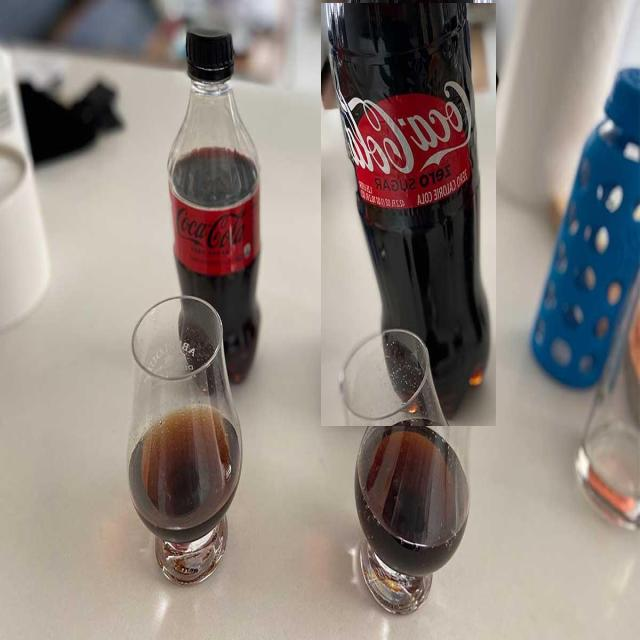coca-cola: (321, 3, 496, 426), (164, 19, 266, 386)
